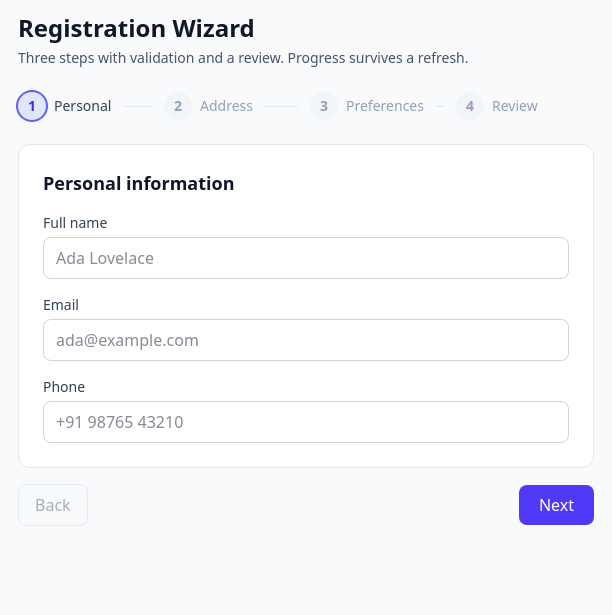
Scenario: RegistrationWizard › blocks advancing an invalid step and shows errors
Click the button "Next" at (556, 505), box [519,485,594,525]
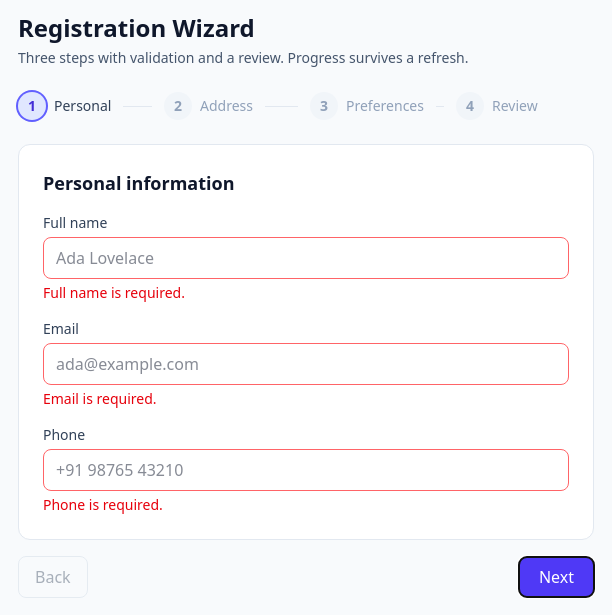
expect the heading "Personal information" is shown: met, box [43,171,234,195]
expect the text "Full name is required." is shown: met, box [43,283,185,302]
expect the text "Email is required." is shown: met, box [43,389,157,408]
